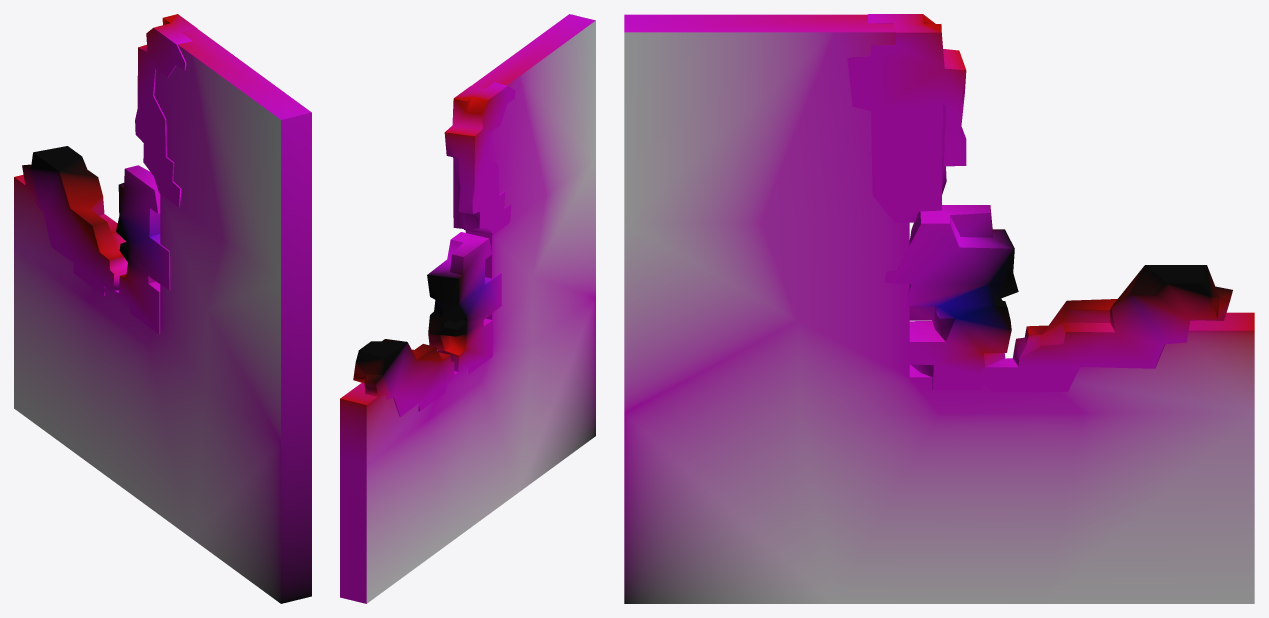
File: DBK_Brick_90_A.fbx
The picture shows the model from 3 angles, left to right: view 1: azimuth 30°, elevation 25°; view 2: azimuth 150°, elevation 25°; view 3: azimuth 270°, elevation 25°; orthographic projection. The views are drawn at different scales.
Parts seen in each view (by area): view 1: DBK_Brick_90_A; view 2: DBK_Brick_90_A; view 3: DBK_Brick_90_A.
Part boxes in pixels (<box>): DBK_Brick_90_A: <box>14,14,311,603</box>; DBK_Brick_90_A: <box>340,14,595,603</box>; DBK_Brick_90_A: <box>624,14,1254,603</box>.
Size of the model in its own units: 21.12 by 300 by 300.
